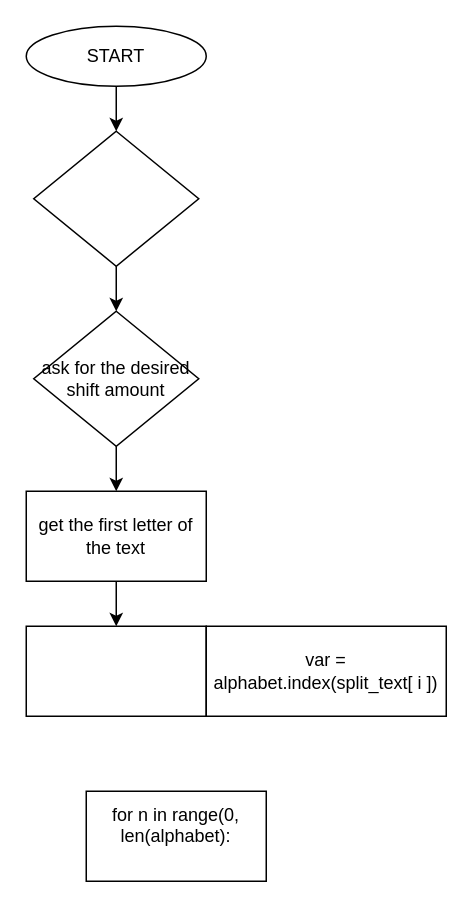
This 473x908 diagram has some shape labels left out. Each missing label, with the box of its shape:
ask for a a text: (32, 130, 199, 266)
Shift it up by the desired shift amount: (25, 625, 206, 716)
